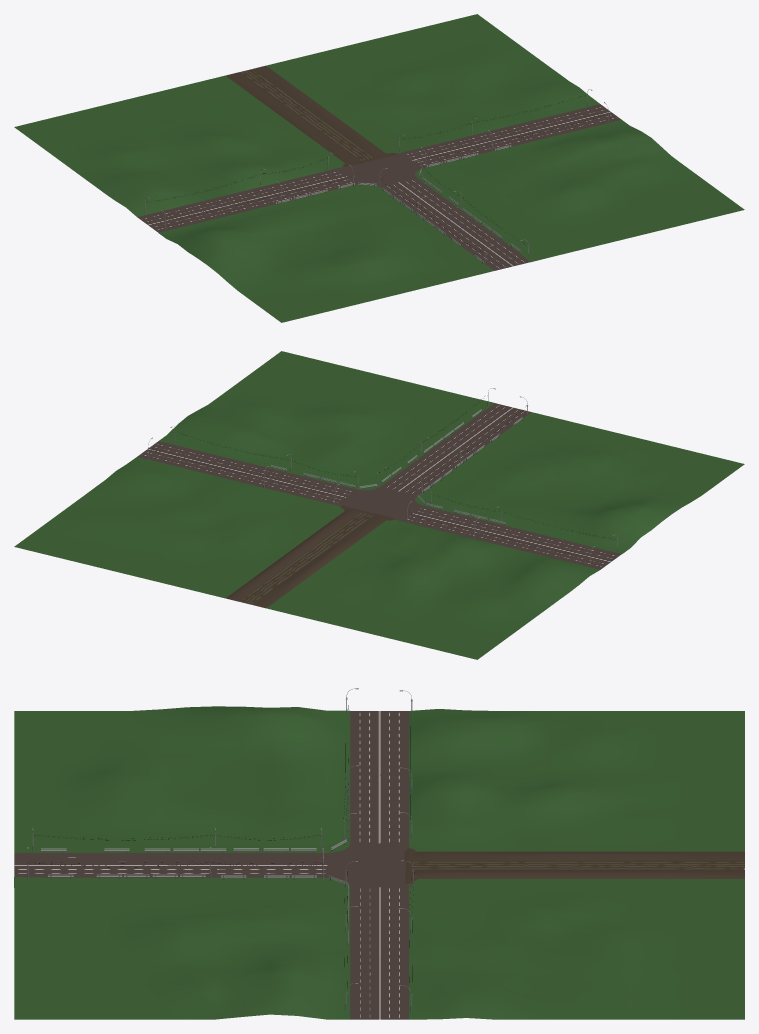
File: TileHighwayForest.fbx
3 renders of one model, top to bottom at view 1: azimuth 30°, elevation 25°; view 2: azimuth 150°, elevation 25°; view 3: azimuth 270°, elevation 25°, orthographic. The views are drawn at different scales.
Parts seen in each view (by area): view 1: Plane.070, Plane.049, Road.005, Road.003, Road.004, Plane.048, Road.006, Road1.022; view 2: Plane.070, Plane.049, Road.003, Road.005, Road.004, Plane.048, Road.006, Road1.022; view 3: Plane.070, Plane.049, Road.005, Road.003, Road.004, Plane.048, Road.006, Road1.022.
Part boxes in pixels (left/top/right/bottom): Plane.070: left=158, top=120, right=744, bottom=322; Plane.049: left=14, top=14, right=599, bottom=216; Road.005: left=137, top=168, right=356, bottom=232; Road.003: left=402, top=104, right=621, bottom=168; Road.004: left=380, top=178, right=530, bottom=270; Plane.048: left=225, top=65, right=397, bottom=166; Road.006: left=239, top=69, right=373, bottom=161; Road1.022: left=336, top=152, right=421, bottom=186; Plane.070: left=159, top=351, right=744, bottom=553; Plane.049: left=14, top=457, right=599, bottom=659; Road.003: left=137, top=441, right=356, bottom=505; Road.005: left=402, top=505, right=621, bottom=569; Road.004: left=380, top=403, right=531, bottom=495; Plane.048: left=226, top=505, right=394, bottom=608; Road.006: left=239, top=513, right=373, bottom=604; Road1.022: left=336, top=487, right=422, bottom=521; Plane.070: left=14, top=706, right=350, bottom=1019; Plane.049: left=409, top=709, right=744, bottom=1019; Road.005: left=350, top=711, right=408, bottom=843; Road.003: left=350, top=887, right=408, bottom=1019; Road.004: left=14, top=853, right=327, bottom=877; Plane.048: left=404, top=848, right=744, bottom=883; Road.006: left=412, top=860, right=744, bottom=869; Road1.022: left=327, top=843, right=408, bottom=887.
Size of the model in its own units: 20013 by 806 by 20010.
